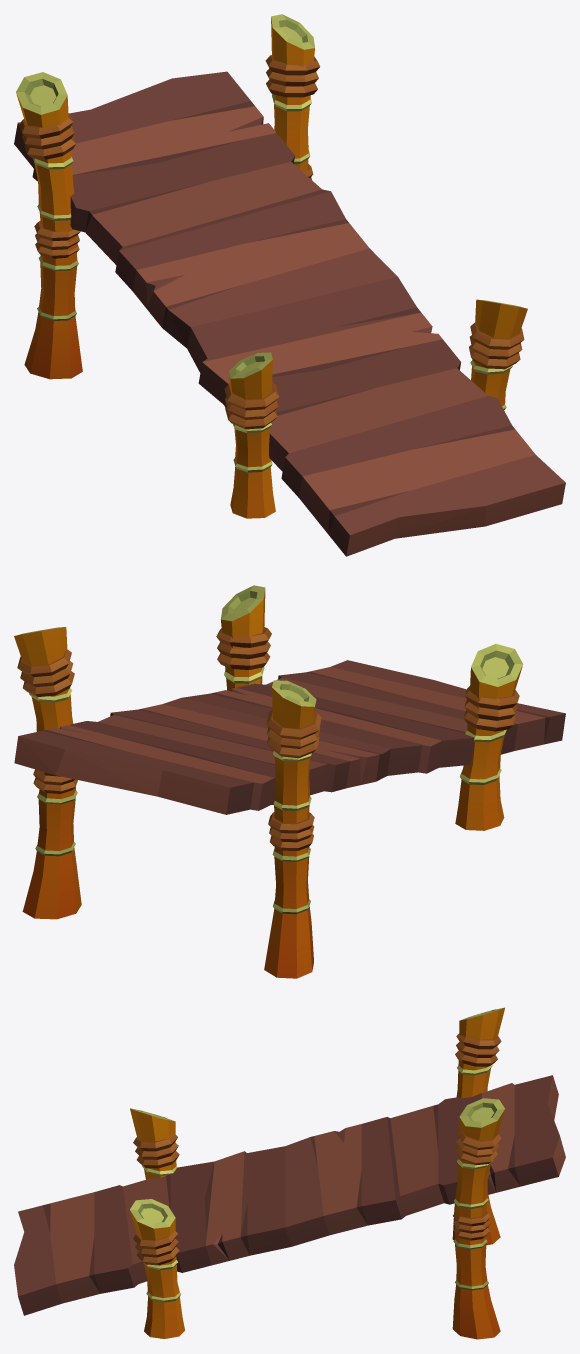
Rendered from platform2.glb.
3 views of the same model, one above another, from view 1: azimuth 30°, elevation 25°; view 2: azimuth 150°, elevation 25°; view 3: azimuth 270°, elevation 25° (orthographic). The views are drawn at different scales.
Visible parts, largest first — view 1: platform2; view 2: platform2; view 3: platform2.
Part boxes in pixels (box(x1,y1,x2,y2)): platform2: box(14, 14, 565, 556); platform2: box(14, 585, 565, 978); platform2: box(14, 1007, 565, 1339).
Size of the model in its own units: 2.05 by 1.87 by 4.07.
Materials: 2 (2 with a texture image).
